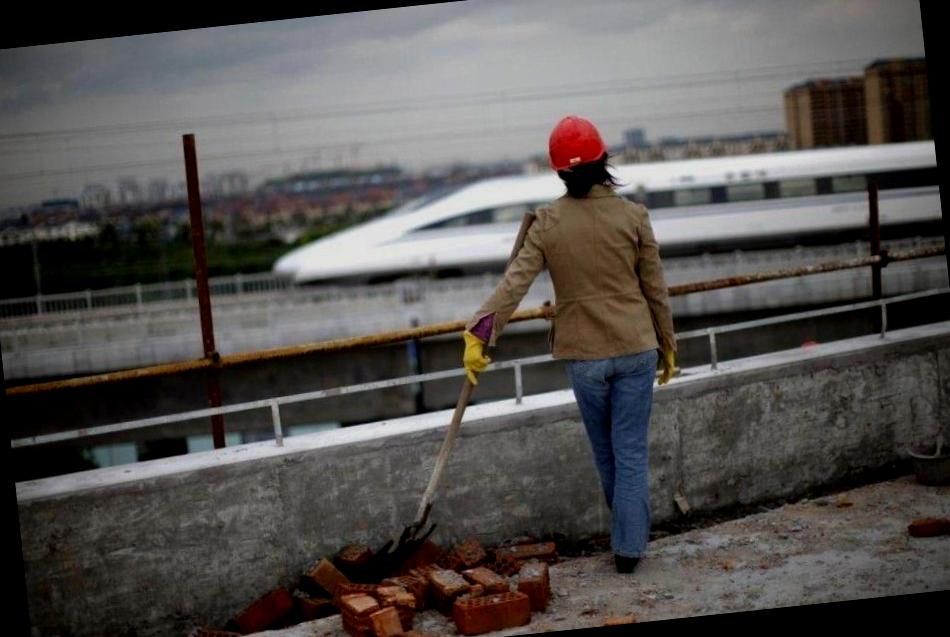helmet: (544, 102, 622, 177)
no_vest: (509, 183, 666, 373)
person: (475, 86, 706, 576)
